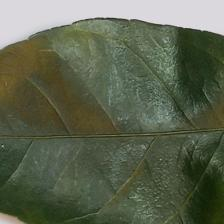healthy: (14, 40, 224, 224)
